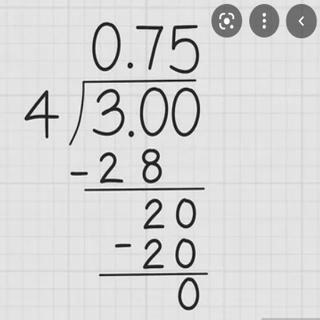.: (124, 57, 139, 72), (124, 126, 138, 142)
0: (89, 19, 121, 73), (171, 86, 203, 137), (140, 84, 170, 136), (175, 278, 204, 311), (174, 236, 198, 269), (176, 197, 198, 232)
2: (97, 149, 127, 187), (142, 235, 164, 273), (141, 195, 164, 230)
3: (91, 86, 125, 139)
4: (24, 88, 59, 140)
5: (170, 21, 201, 75)
7: (133, 21, 164, 72)
8: (141, 148, 164, 184)
